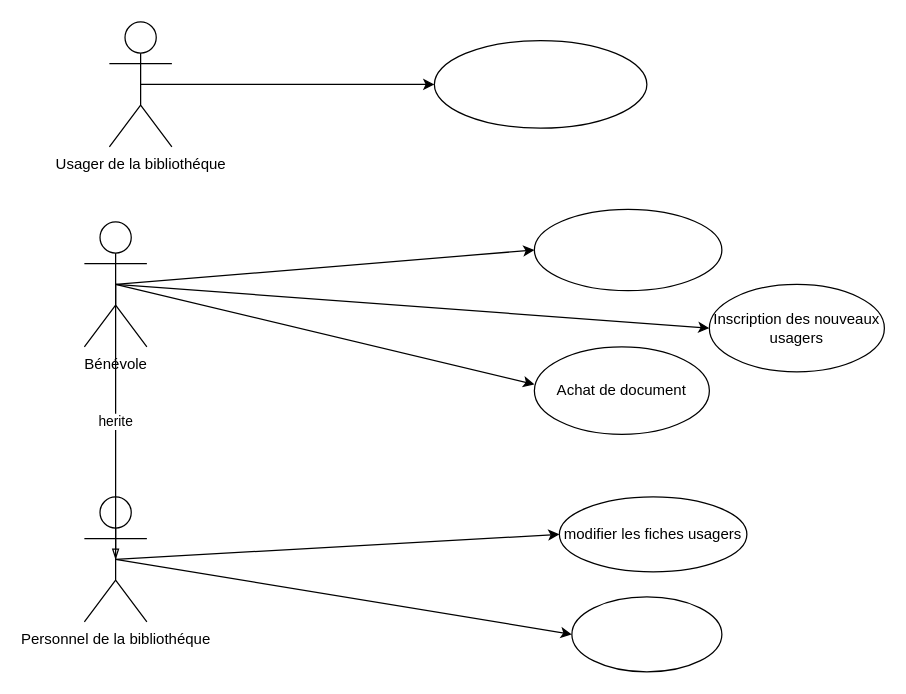
The diagram is 906 pixels wide and 694 high, and some of its shapes have lost their labels. Each missing label, with the centre of its shape:
consulter la liste des documents: the point at 540,83
gere l'emprunt: the point at 627,249
modifier les fiches documents: the point at 646,634
